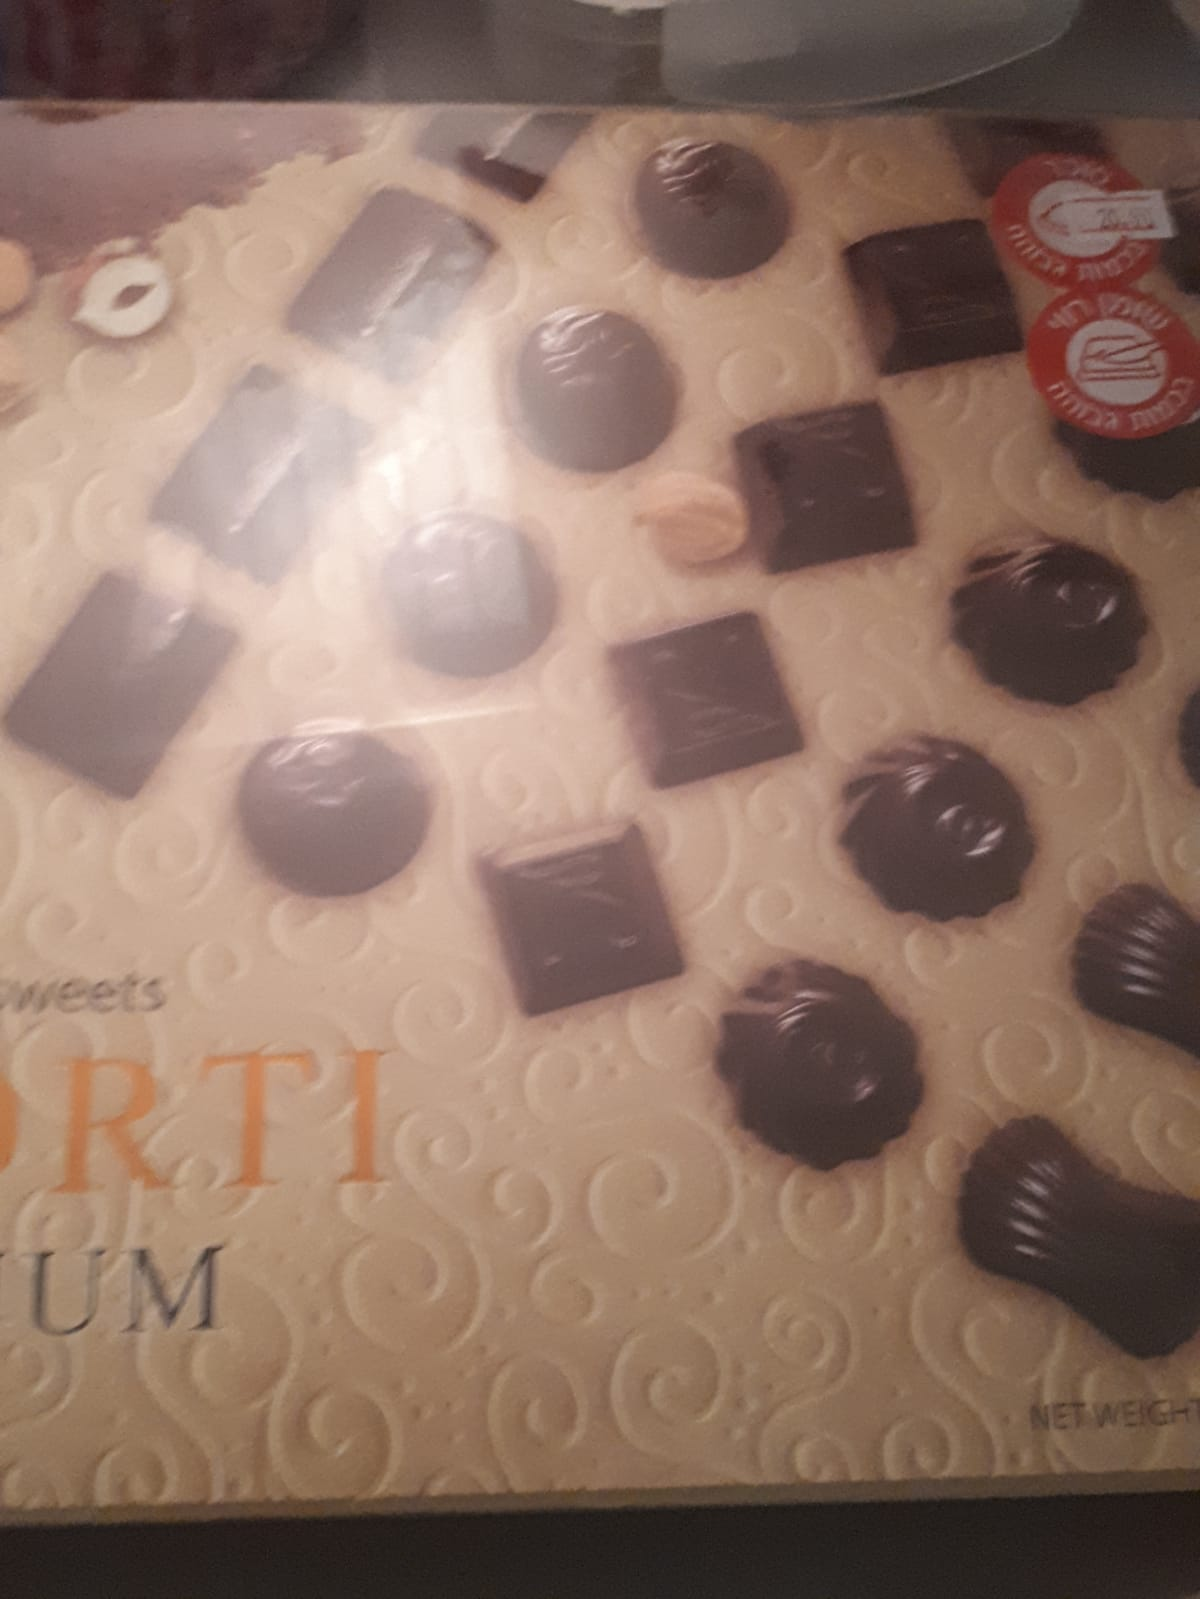fat: (1026, 290, 1200, 440)
sugar: (987, 144, 1161, 294)
